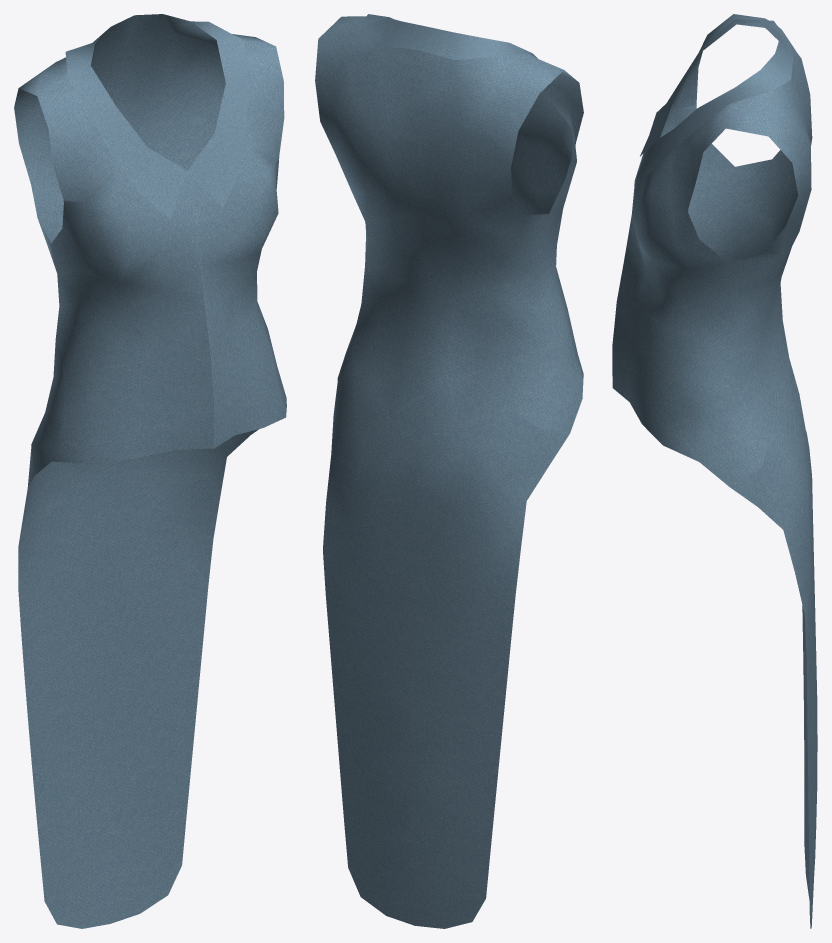
The model's file is liivi3.fbx.
3 renders of one model, left to right at view 1: azimuth 30°, elevation 25°; view 2: azimuth 150°, elevation 25°; view 3: azimuth 270°, elevation 25°, orthographic. The views are drawn at different scales.
Parts seen in each view (by area): view 1: liivi3; view 2: liivi3; view 3: liivi3.
Part boxes in pixels (box(x1,y1,x2,y2)): liivi3: box(14, 14, 286, 928); liivi3: box(315, 14, 583, 928); liivi3: box(612, 14, 817, 928).
Bounding box in the file's own units: 327 × 1192 × 251.
1 material, 1 textured.
